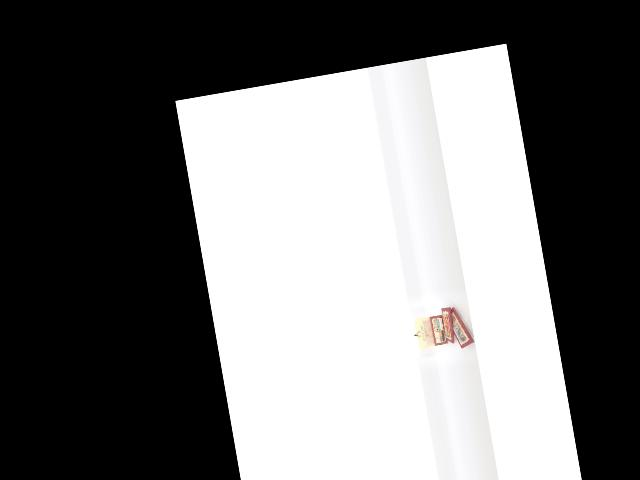chocolate: (446, 302, 479, 358)
